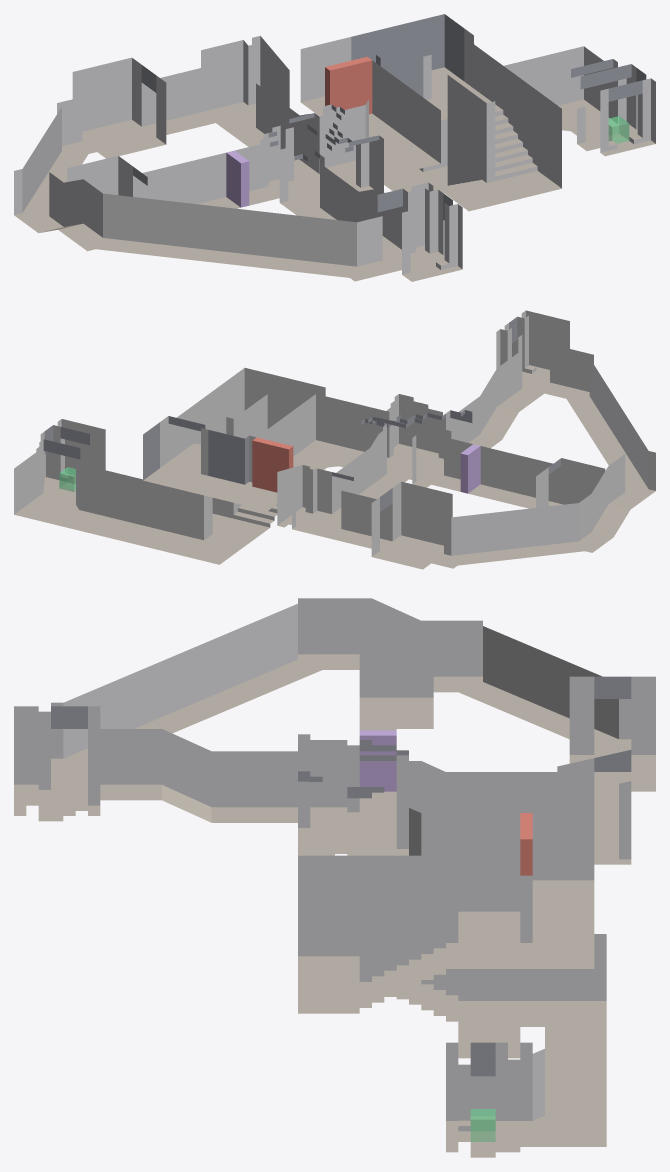
The model's file is works_01.glb.
3 views of the same model, one above another, from view 1: azimuth 30°, elevation 25°; view 2: azimuth 150°, elevation 25°; view 3: azimuth 270°, elevation 25° (orthographic). The views are drawn at different scales.
Parts seen in each view (by area): view 1: corridor:5, room:5, corridor:1, room:3, corridor:3, corridor:4, room:1, entities, room:2, room:0, corridor:0, room:1/portals (+10 smaller); view 2: corridor:5, corridor:1, corridor:4, room:5, corridor:3, room:1, corridor:0, room:3, entities, room:2, room:0, room:4 (+8 smaller); view 3: corridor:5, room:5, corridor:1, corridor:0, corridor:4, room:1, room:4, room:2, room:0, corridor:2, entities, room:3 (+6 smaller).
Part boxes in pixels (x1=…): corridor:5: x1=14, y1=57, x2=396, y2=281; room:5: x1=382, y1=44, x2=561, y2=211; corridor:1: x1=300, y1=14, x2=473, y2=177; room:3: x1=201, y1=35, x2=289, y2=133; corridor:3: x1=133, y1=144, x2=274, y2=208; corridor:4: x1=384, y1=46, x2=613, y2=181; room:1: x1=260, y1=104, x2=383, y2=216; entities: x1=226, y1=56, x2=629, y2=207; room:2: x1=571, y1=59, x2=655, y2=156; room:0: x1=377, y1=182, x2=462, y2=281; corridor:0: x1=304, y1=167, x2=402, y2=255; room:1/portals: x1=260, y1=113, x2=369, y2=210; corridor:5: x1=329, y1=346, x2=655, y2=569; corridor:1: x1=143, y1=394, x2=381, y2=510; corridor:4: x1=14, y1=450, x2=248, y2=564; room:5: x1=168, y1=368, x2=325, y2=542; corridor:3: x1=439, y1=439, x2=561, y2=508; room:1: x1=368, y1=394, x2=450, y2=487; corridor:0: x1=450, y1=353, x2=539, y2=448; room:3: x1=277, y1=465, x2=353, y2=538; entities: x1=59, y1=437, x2=480, y2=493; room:2: x1=36, y1=419, x2=105, y2=504; room:0: x1=496, y1=310, x2=569, y2=396; room:4: x1=536, y1=458, x2=605, y2=507; corridor:5: x1=51, y1=598, x2=655, y2=827; room:5: x1=298, y1=855, x2=520, y2=1058; corridor:1: x1=409, y1=808, x2=594, y2=968; corridor:0: x1=100, y1=729, x2=297, y2=822; corridor:4: x1=520, y1=934, x2=606, y2=1146; room:1: x1=298, y1=734, x2=408, y2=855; room:4: x1=359, y1=630, x2=433, y2=728; room:2: x1=446, y1=1042, x2=532, y2=1152; room:0: x1=14, y1=706, x2=100, y2=815; corridor:2: x1=446, y1=772, x2=557, y2=812; entities: x1=359, y1=730, x2=532, y2=1141; room:3: x1=557, y1=750, x2=631, y2=864.
Size of the model in its own units: 75 by 17 by 52.
